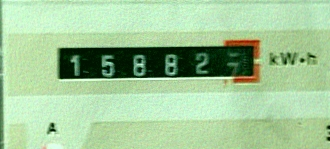1: (69, 53, 83, 78)
2: (195, 50, 211, 76)
5: (100, 53, 116, 78)
7: (226, 60, 240, 76)
8: (131, 53, 148, 77), (163, 51, 179, 76)
screen: (45, 33, 271, 93)
